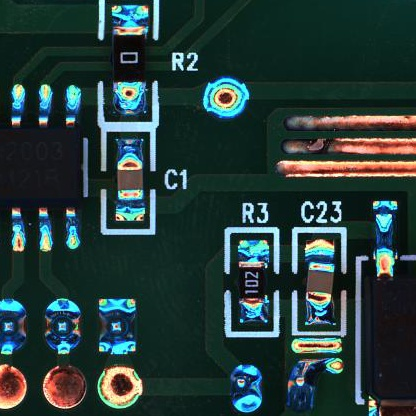spot: (95, 297, 135, 355), (43, 297, 80, 355), (200, 78, 249, 119), (228, 363, 262, 413), (1, 297, 27, 354)
